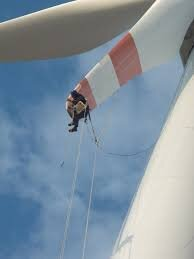faulty: (56, 30, 136, 120)
